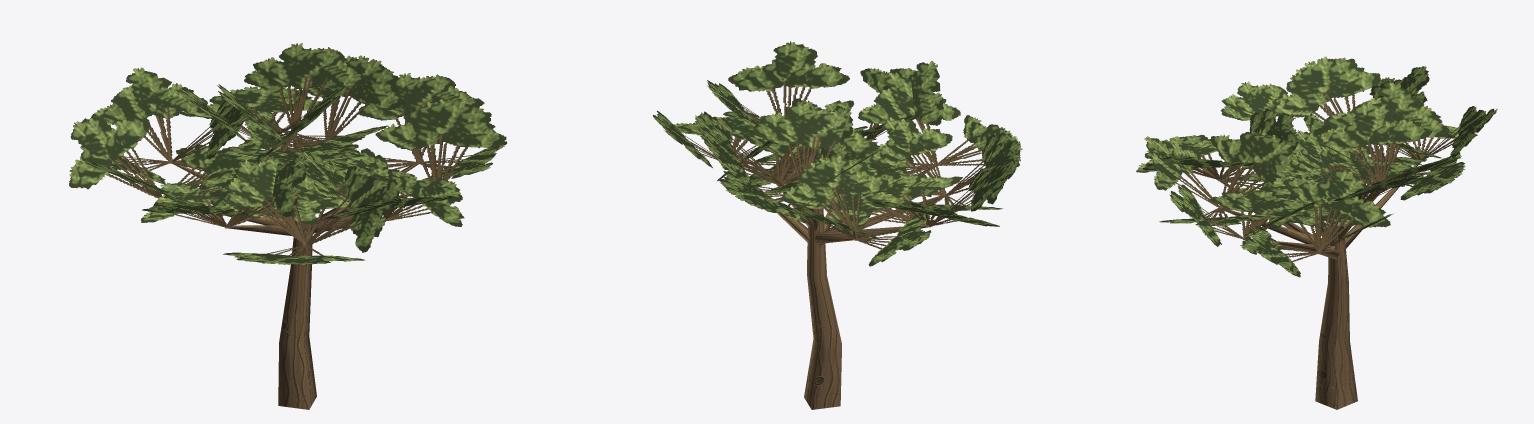
File: savanna-acacia-mobile.glb
3 renders of one model, left to right at view 1: azimuth 30°, elevation 25°; view 2: azimuth 150°, elevation 25°; view 3: azimuth 270°, elevation 25°, orthographic. The views are drawn at different scales.
Visible parts, largest first — view 1: Savanna acacia mobile v3 runtime; view 2: Savanna acacia mobile v3 runtime; view 3: Savanna acacia mobile v3 runtime.
Part boxes in pixels (x1,y1,x2,y2): Savanna acacia mobile v3 runtime: (69,43,506,409); Savanna acacia mobile v3 runtime: (653,41,1022,409); Savanna acacia mobile v3 runtime: (1136,56,1497,409).
Bounding box in the file's own units: 11.02 × 7.62 × 9.9.
Materials: 1 (1 with a texture image).
